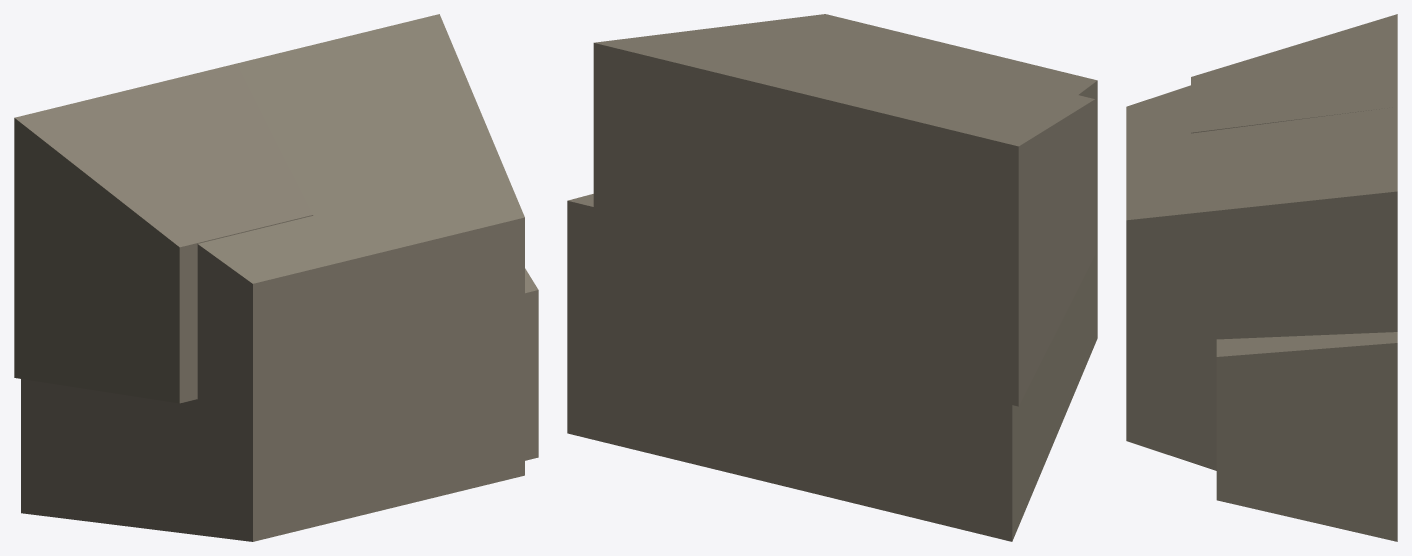
File: SM_BasaltBoulder.obj
3 renders of one model, left to right at view 1: azimuth 30°, elevation 25°; view 2: azimuth 150°, elevation 25°; view 3: azimuth 270°, elevation 25°, orthographic. The views are drawn at different scales.
Visible parts, largest first — view 1: SM_BasaltBoulder; view 2: SM_BasaltBoulder; view 3: SM_BasaltBoulder.
Part boxes in pixels (x1=…): SM_BasaltBoulder: x1=14, y1=14, x2=538, y2=541; SM_BasaltBoulder: x1=567, y1=14, x2=1097, y2=541; SM_BasaltBoulder: x1=1126, y1=14, x2=1397, y2=541.
Size of the model in its own units: 345 by 290 by 210.
